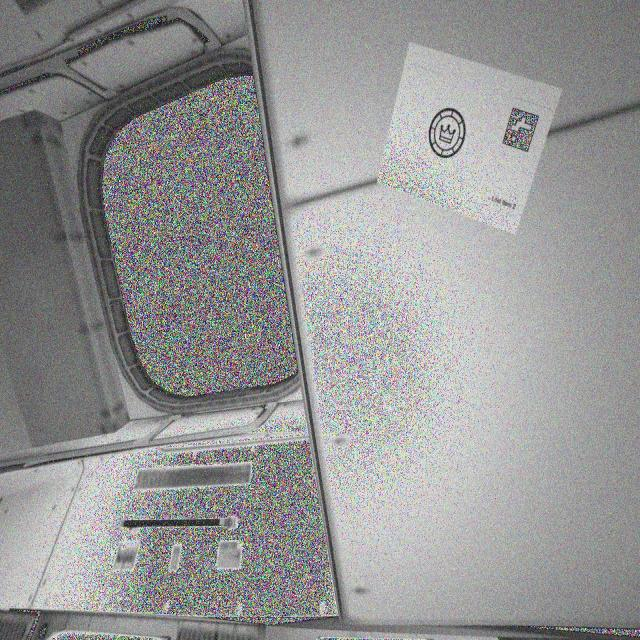coin: (426, 100, 469, 165)
